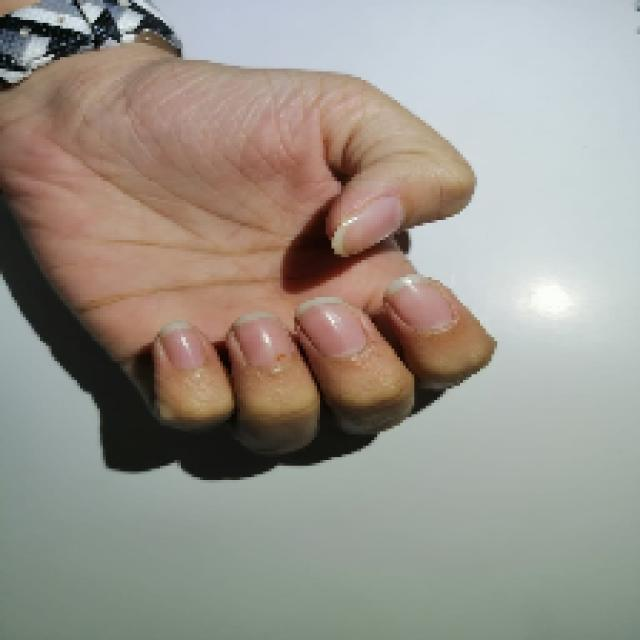Nail: (331, 196, 405, 257), (296, 298, 366, 357), (385, 274, 452, 331), (232, 313, 293, 367), (160, 322, 202, 370)
